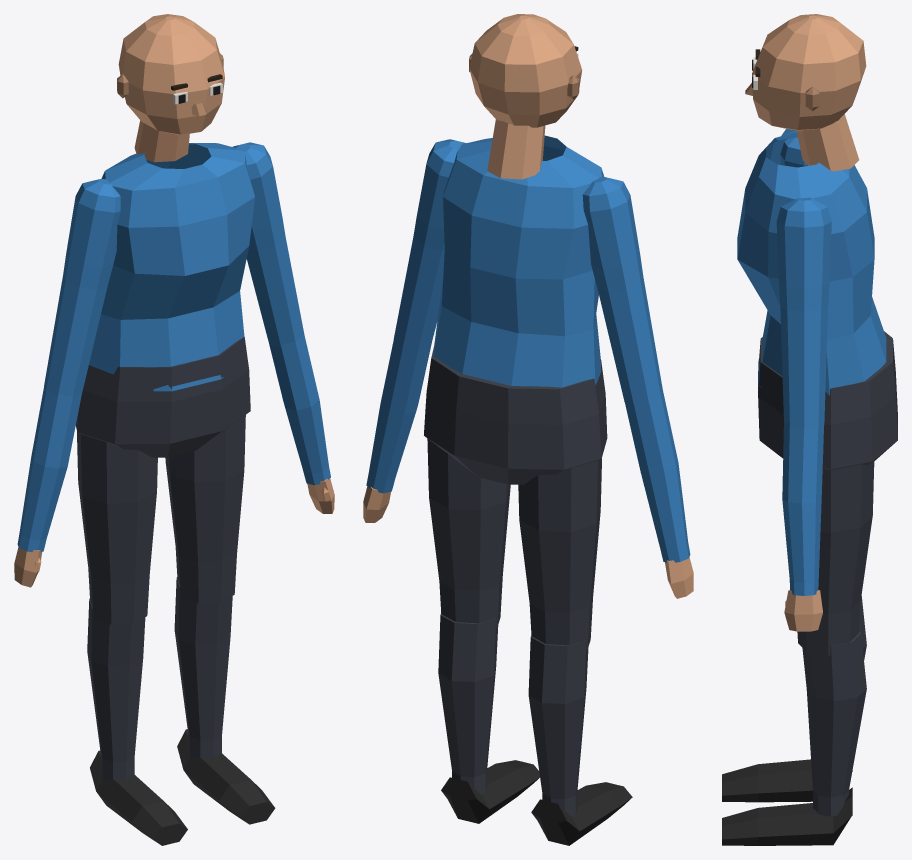
The model's file is senior_f_moyen.glb.
3 views of the same model, side by side, from view 1: azimuth 30°, elevation 25°; view 2: azimuth 150°, elevation 25°; view 3: azimuth 270°, elevation 25° (orthographic). The views are drawn at different scales.
Visible parts, largest first — view 1: torse, bassin, jambe_d, tete, tibia_d, tibia_g, jambe_g, bras_d, bras_g, avant_bras_d, avant_bras_g; view 2: torse, bassin, tete, jambe_d, tibia_d, tibia_g, jambe_g, bras_d, bras_g, avant_bras_d, avant_bras_g; view 3: torse, tete, tibia_g, bras_g, jambe_g, bassin, avant_bras_g, tibia_d, bras_d.
Part boxes in pixels (<box>): torse: <box>89,143,254,391</box>; bassin: <box>76,336,250,457</box>; jambe_d: <box>77,432,157,624</box>; tete: <box>117,14,224,162</box>; tibia_d: <box>87,598,187,845</box>; tibia_g: <box>174,577,275,824</box>; jambe_g: <box>165,415,245,603</box>; bras_d: <box>44,178,120,395</box>; bras_g: <box>233,142,304,346</box>; avant_bras_d: <box>14,388,81,587</box>; avant_bras_g: <box>269,334,334,513</box>; torse: <box>433,135,604,387</box>; bassin: <box>424,347,607,484</box>; tete: <box>469,14,582,179</box>; jambe_d: <box>518,458,601,649</box>; tibia_d: <box>528,636,632,845</box>; tibia_g: <box>438,613,539,823</box>; jambe_g: <box>427,438,510,627</box>; bras_d: <box>582,176,662,404</box>; bras_g: <box>393,139,466,351</box>; avant_bras_d: <box>625,391,693,598</box>; avant_bras_g: <box>363,340,431,522</box>; torse: <box>737,132,886,395</box>; tete: <box>745,14,866,171</box>; tibia_g: <box>722,631,866,845</box>; bras_g: <box>776,197,831,429</box>; jambe_g: <box>797,461,874,655</box>; bassin: <box>758,331,897,470</box>; avant_bras_g: <box>782,422,823,631</box>; tibia_d: <box>722,596,866,802</box>; bras_d: <box>780,129,807,167</box>.
Size of the model in its own units: 0.664 by 1.59 by 0.3154.
1 material, 1 textured.
